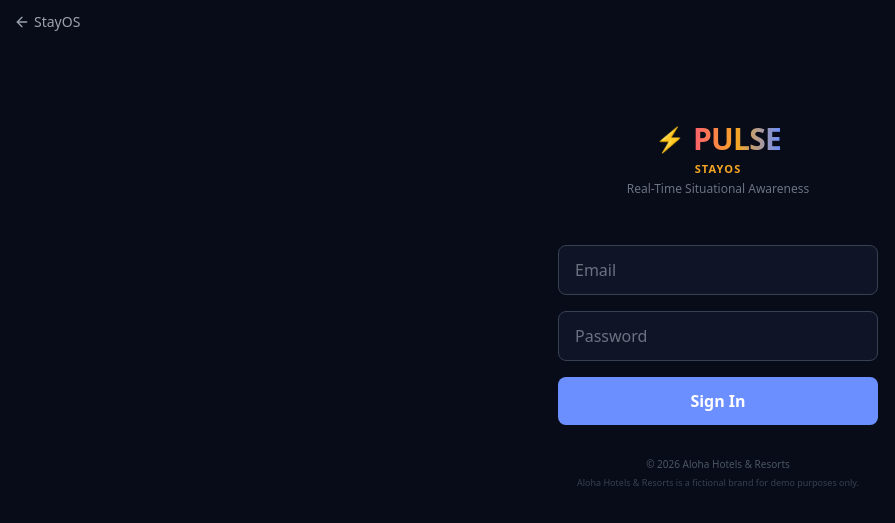
Test case: Login credential rejection (Requirement 16.4) › shows a visible error and does not navigate when credentials are invalid
In the field with placeholder "Email": (718, 270) left=558, top=245, right=878, bottom=295, type "gm@example.com"
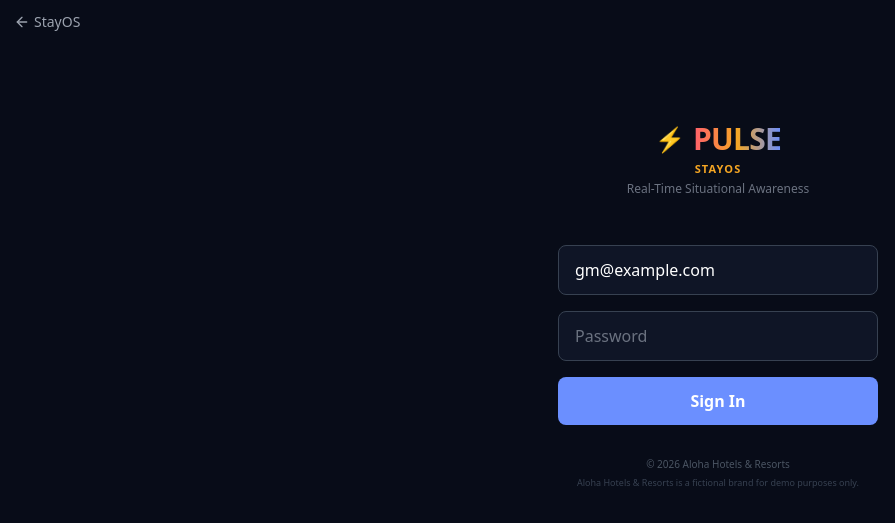
In the password field with placeholder "Password": (718, 336) left=558, top=311, right=878, bottom=361, type "wrong-password"
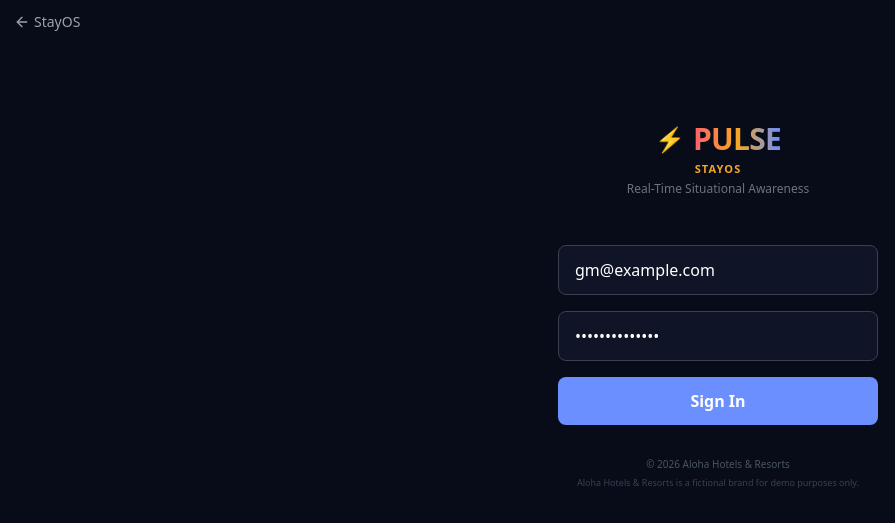
Click the button "Sign In": (718, 401) left=558, top=377, right=878, bottom=425
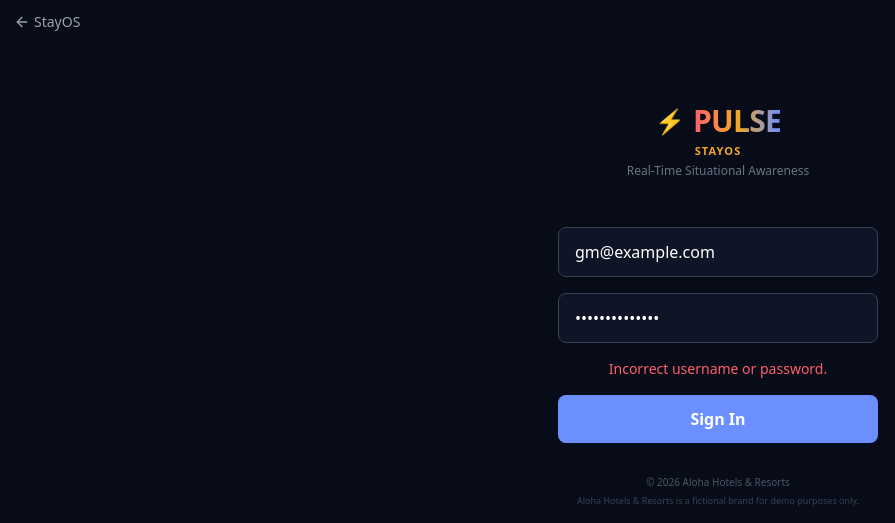
Expected: the message reads "Incorrect username or password.", left=609, top=359, right=827, bottom=378
